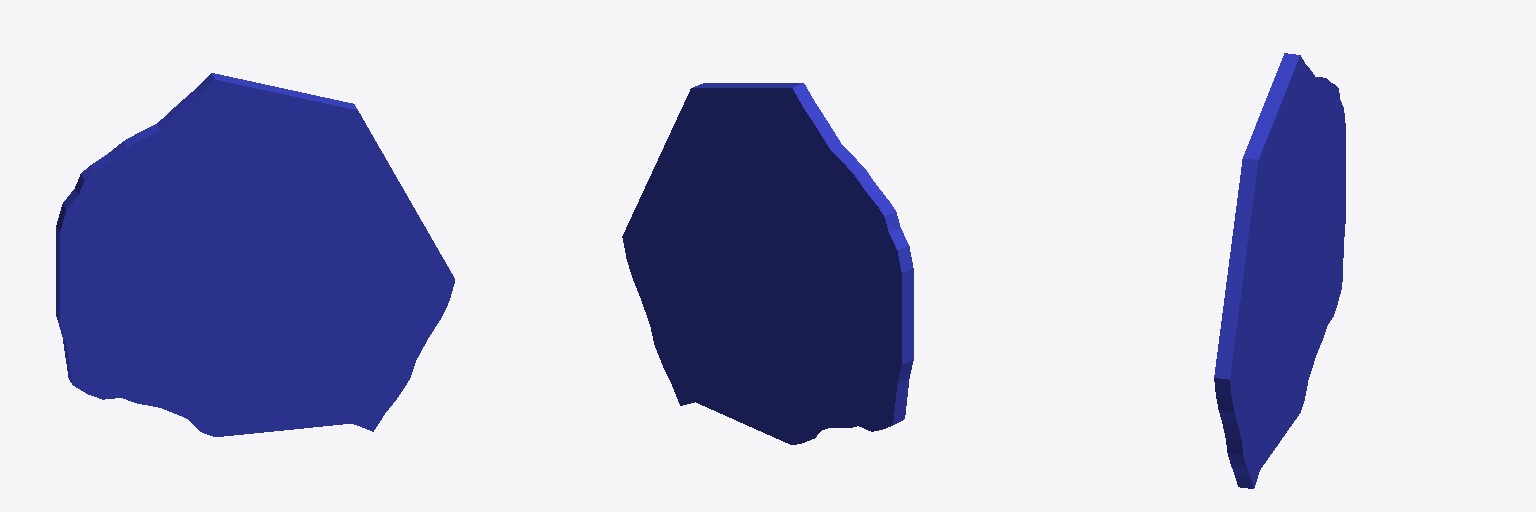
The model's file is coal0.obj.
3 renders of one model, left to right at view 1: azimuth 30°, elevation 25°; view 2: azimuth 150°, elevation 25°; view 3: azimuth 270°, elevation 25°, orthographic.
Visible parts, largest first — view 1: node_id4; view 2: node_id4; view 3: node_id4.
Part boxes in pixels (left/top/right/bottom): node_id4: left=56, top=73, right=454, bottom=436; node_id4: left=622, top=83, right=913, bottom=444; node_id4: left=1214, top=53, right=1345, bottom=488.
Size of the model in its own units: 10.33 by 10.65 by 3.45.